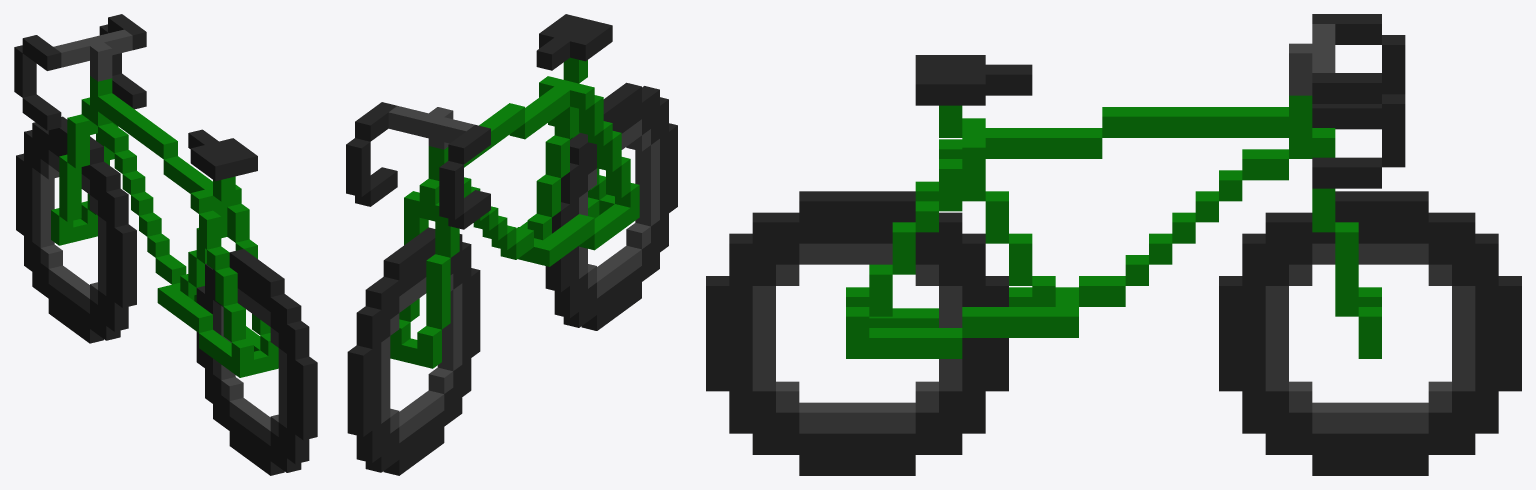
The model's file is bike.glb.
The picture shows the model from 3 angles, left to right: view 1: azimuth 30°, elevation 25°; view 2: azimuth 150°, elevation 25°; view 3: azimuth 270°, elevation 25°; orthographic projection. The views are drawn at different scales.
Parts seen in each view (by area): view 1: ObjObject; view 2: ObjObject; view 3: ObjObject.
Part boxes in pixels (x1=…): ObjObject: x1=14, y1=14, x2=317, y2=475; ObjObject: x1=346, y1=14, x2=677, y2=475; ObjObject: x1=706, y1=14, x2=1521, y2=475.
Bounding box in the file's own units: 0.7 × 2 × 3.5.
1 material, 1 textured.
